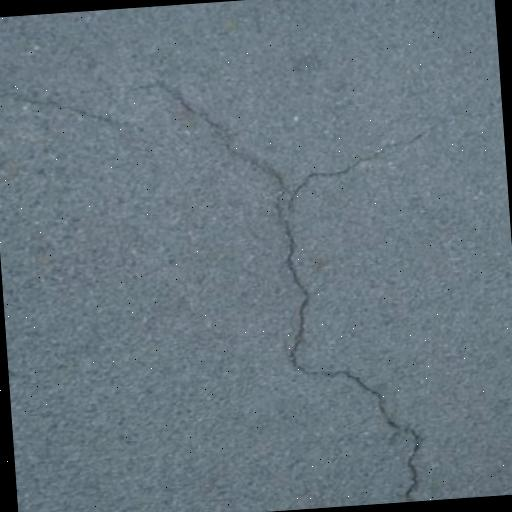spalling: (1, 71, 438, 497), (276, 124, 424, 216)
